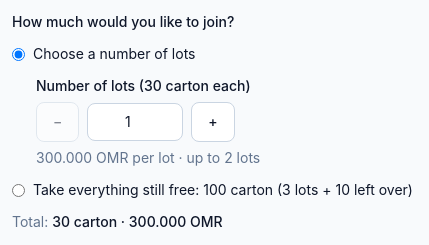
Test: LotPicker stepper › snaps a typed 99 back into range with more
Replace the text in the number field labelled "Number of lots (30 carton each)" with "99": coordinates (135, 122) [87,103,183,141]
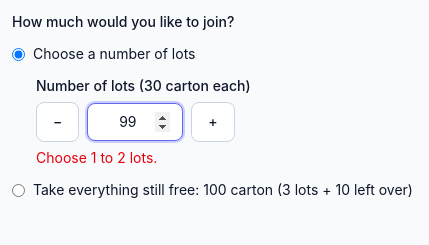
Click the button named "More lots": coordinates (213, 122) [191,102,235,142]
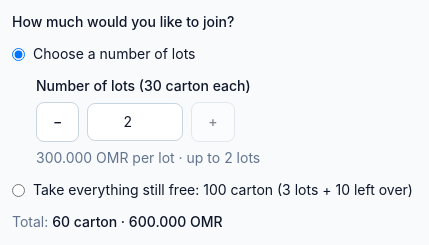
Now the number field labelled "Number of lots (30 carton each)" holds "2", box [87,103,183,141]
